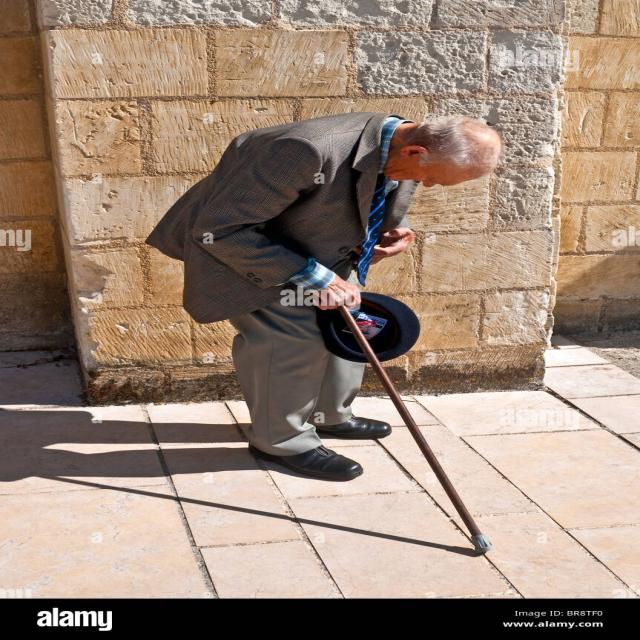idoso em pe: (155, 92, 525, 498)
